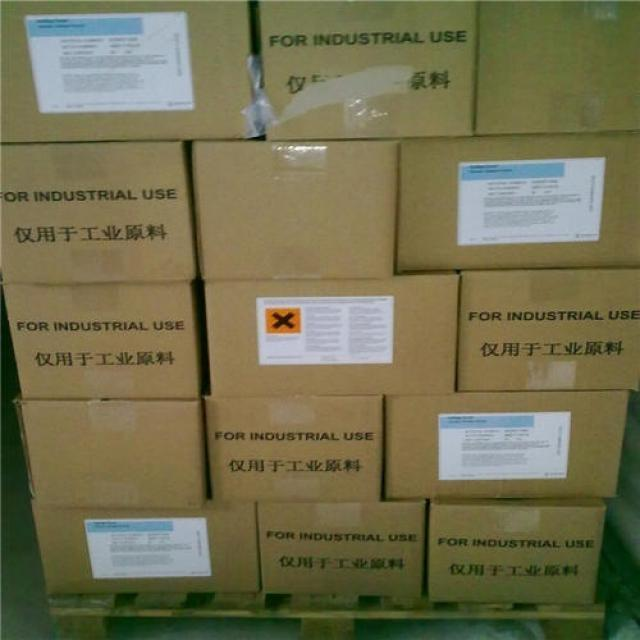box: (0, 1, 255, 141), (396, 132, 639, 269), (205, 266, 461, 396), (257, 1, 479, 139), (190, 136, 404, 277), (0, 138, 196, 285), (385, 391, 631, 500), (33, 491, 259, 598), (2, 284, 201, 399), (458, 268, 639, 394), (475, 0, 639, 133), (17, 398, 210, 508), (203, 394, 387, 501), (428, 495, 608, 602), (255, 498, 431, 591)
